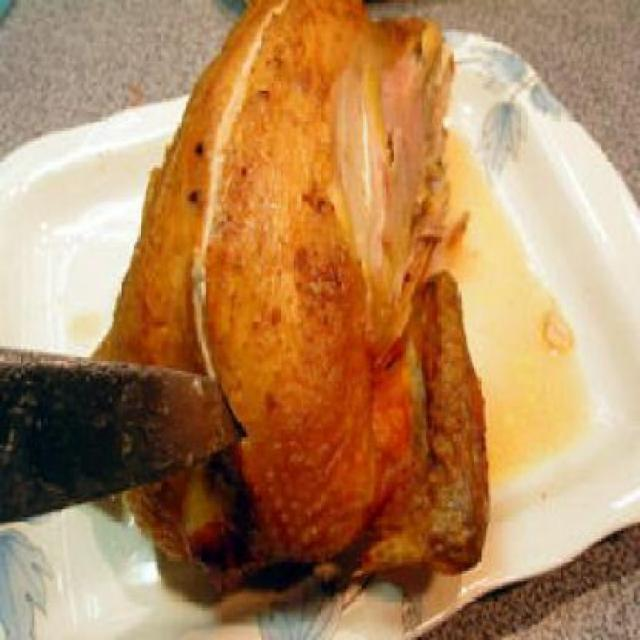Chicken roast: (100, 8, 502, 597)
